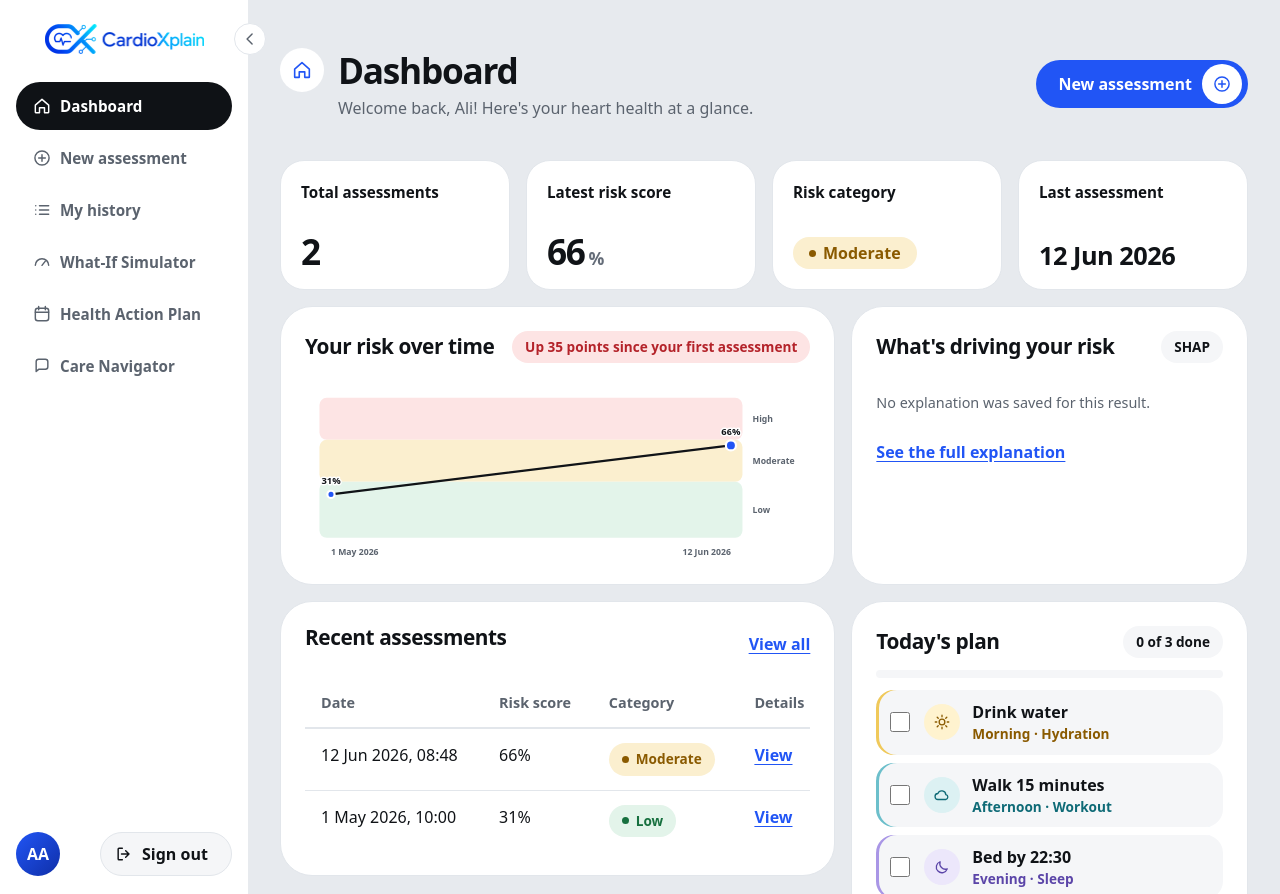
today's plan shows today's tasks and ticking updates the progress
The width and height of the screenshot is (1280, 894).
Check: the text "0 of 3 done" is shown, box [1123,626,1223,658]
Step 1. Click the checkbox named "Workout: Walk 15 minutes" → [900, 795], box [890,785,910,805]
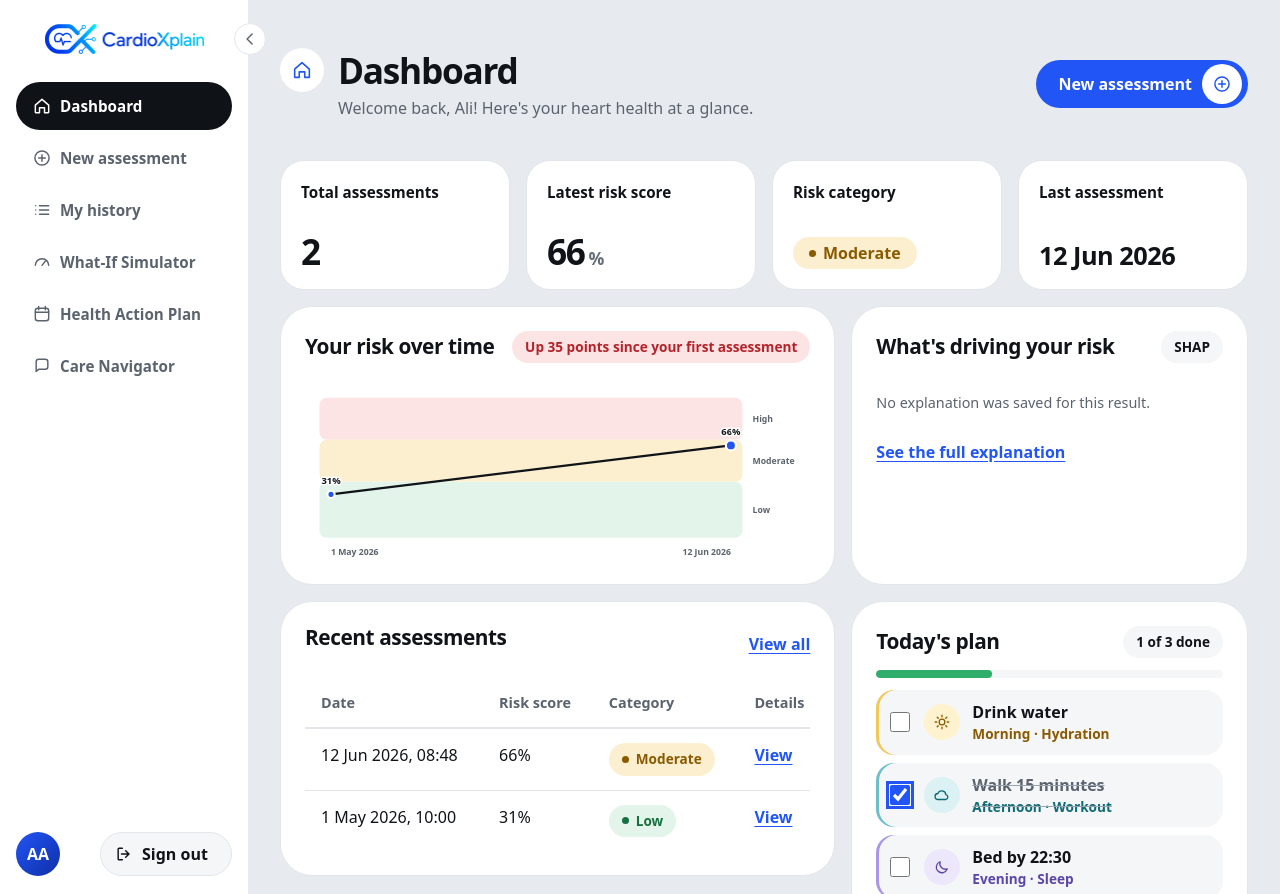
Check: the text "1 of 3 done" is shown, box [1123,626,1223,658]
